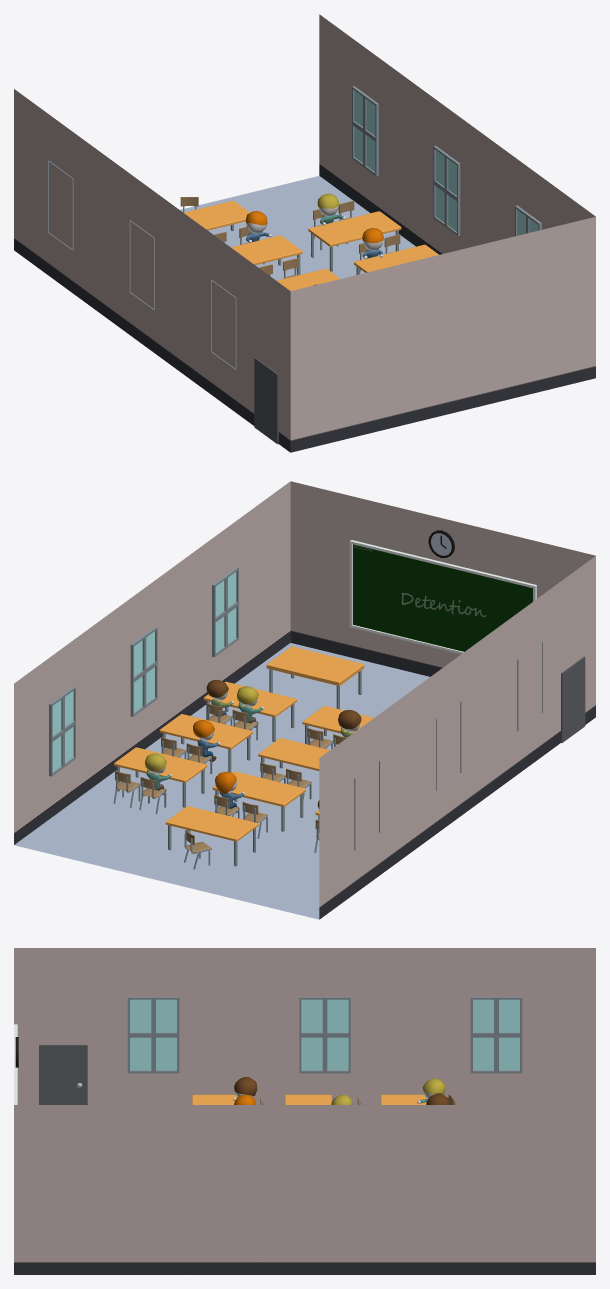
File: Class_Room.fbx
The picture shows the model from 3 angles, top to bottom: view 1: azimuth 30°, elevation 25°; view 2: azimuth 150°, elevation 25°; view 3: azimuth 270°, elevation 25°; orthographic projection. The views are drawn at different scales.
Visible parts, largest first — view 1: ClassRoom, Window_5, Window_6, Desk_5, Door, Desk_6, Desk_11, Desk_3, Desk_1; view 2: ClassRoom, Board, Desk_2, Desk_11, Window_5, Window_4, Window_6, Door, Desk_6, Desk_5, Desk_3, Desk_1 (+7 smaller); view 3: ClassRoom, Window_1, Window_3, Window_2, Door, Desk_10, Desk_8, Desk_9.
Boxes of the visible parts, <box> form: ClassRoom: <box>14,14,595,452</box>; Window_5: <box>433,145,460,235</box>; Window_6: <box>352,86,378,176</box>; Desk_5: <box>308,211,401,271</box>; Door: <box>254,357,278,444</box>; Desk_6: <box>231,235,302,274</box>; Desk_11: <box>184,200,249,230</box>; Desk_3: <box>354,244,438,274</box>; Desk_1: <box>276,268,339,290</box>; ClassRoom: <box>14,481,595,919</box>; Board: <box>349,540,536,654</box>; Desk_2: <box>266,646,364,709</box>; Desk_11: <box>165,806,258,866</box>; Window_5: <box>130,626,157,716</box>; Window_4: <box>212,567,238,657</box>; Window_6: <box>49,686,75,776</box>; Door: <box>561,656,585,742</box>; Desk_6: <box>212,771,305,831</box>; Desk_5: <box>114,747,207,807</box>; Desk_3: <box>159,714,252,772</box>; Desk_1: <box>258,738,329,777</box>; ClassRoom: <box>14,948,595,1274</box>; Window_1: <box>470,996,522,1073</box>; Window_3: <box>127,996,179,1073</box>; Window_2: <box>299,996,350,1073</box>; Door: <box>39,1045,87,1104</box>; Desk_10: <box>285,1094,331,1104</box>; Desk_8: <box>381,1094,426,1104</box>; Desk_9: <box>192,1094,236,1104</box>.
Bounding box in the file's own units: 449 × 226 × 700.
Materials: 3 (3 with a texture image).
